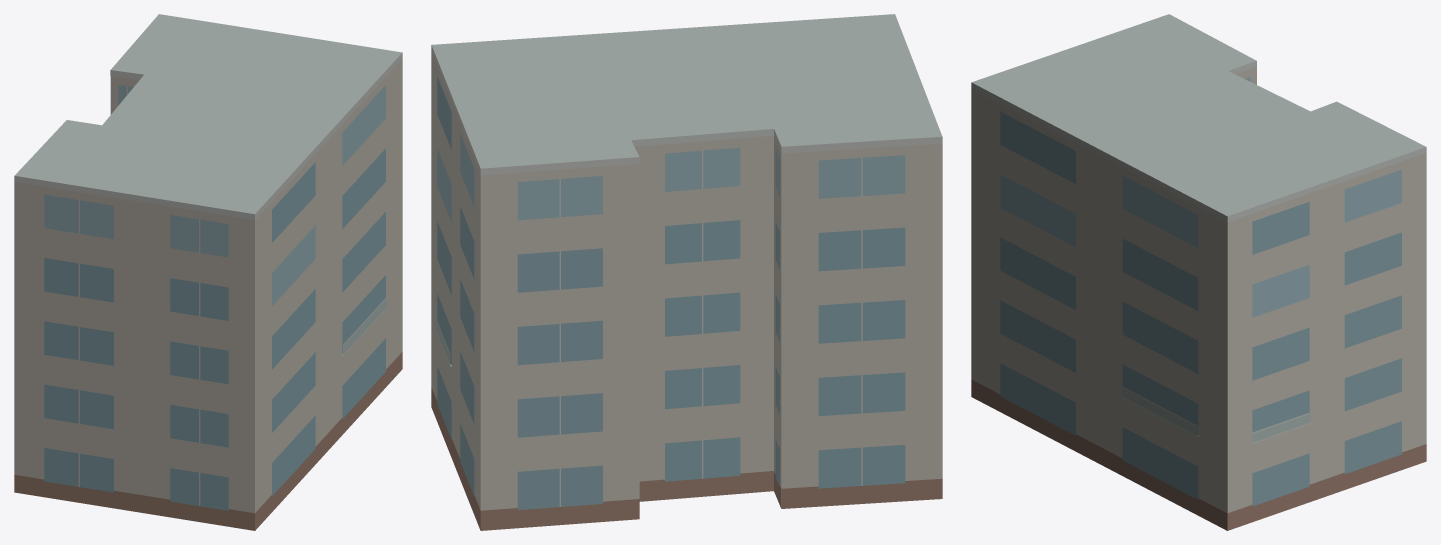
Rendered from survey-upis-32947697.glb.
3 views of the same model, side by side, from view 1: azimuth 30°, elevation 25°; view 2: azimuth 150°, elevation 25°; view 3: azimuth 270°, elevation 25° (orthographic). The views are drawn at different scales.
Visible parts, largest first — view 1: survey-upis-32947697.tmp; view 2: survey-upis-32947697.tmp; view 3: survey-upis-32947697.tmp.
Part boxes in pixels (x1,y1,x2,y2): survey-upis-32947697.tmp: (14, 14, 402, 530); survey-upis-32947697.tmp: (431, 14, 942, 530); survey-upis-32947697.tmp: (971, 14, 1426, 530).
Size of the model in its own units: 18.08 by 13.1 by 17.19.
